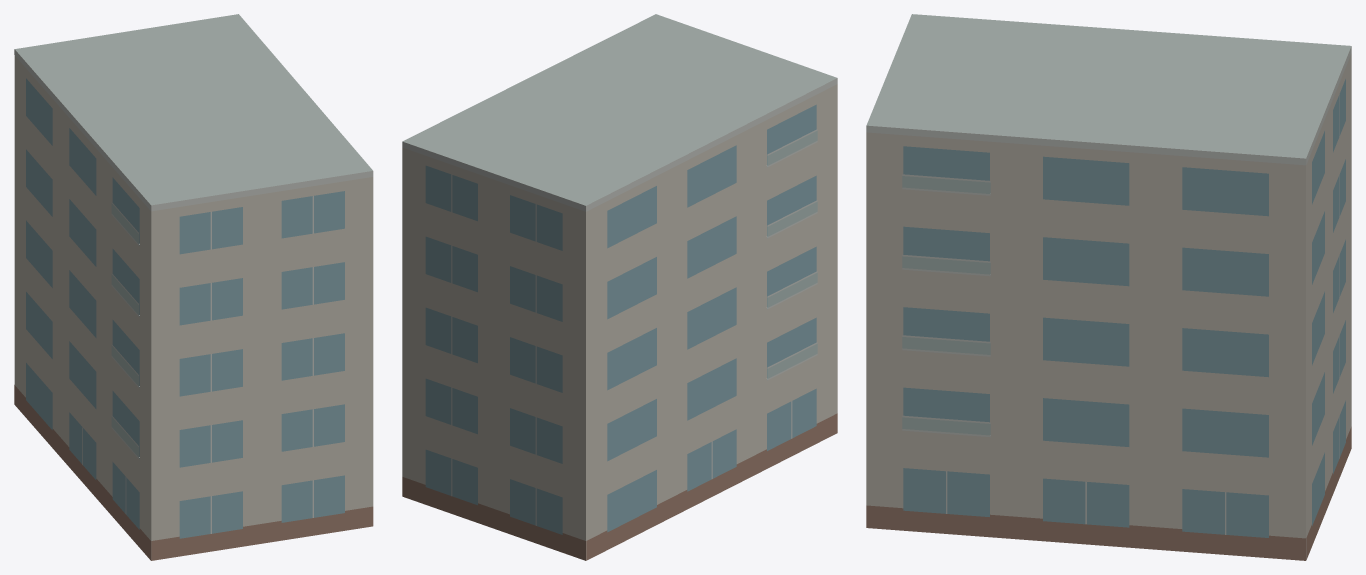
The model's file is survey-upis-32706997.glb.
3 renders of one model, left to right at view 1: azimuth 30°, elevation 25°; view 2: azimuth 150°, elevation 25°; view 3: azimuth 270°, elevation 25°, orthographic. The views are drawn at different scales.
Parts seen in each view (by area): view 1: survey-upis-32706997.tmp; view 2: survey-upis-32706997.tmp; view 3: survey-upis-32706997.tmp.
Part boxes in pixels (x1=…): survey-upis-32706997.tmp: x1=14, y1=14, x2=373, y2=560; survey-upis-32706997.tmp: x1=402, y1=14, x2=837, y2=560; survey-upis-32706997.tmp: x1=866, y1=14, x2=1351, y2=560.
Size of the model in its own units: 11.15 by 14.45 by 15.81.
